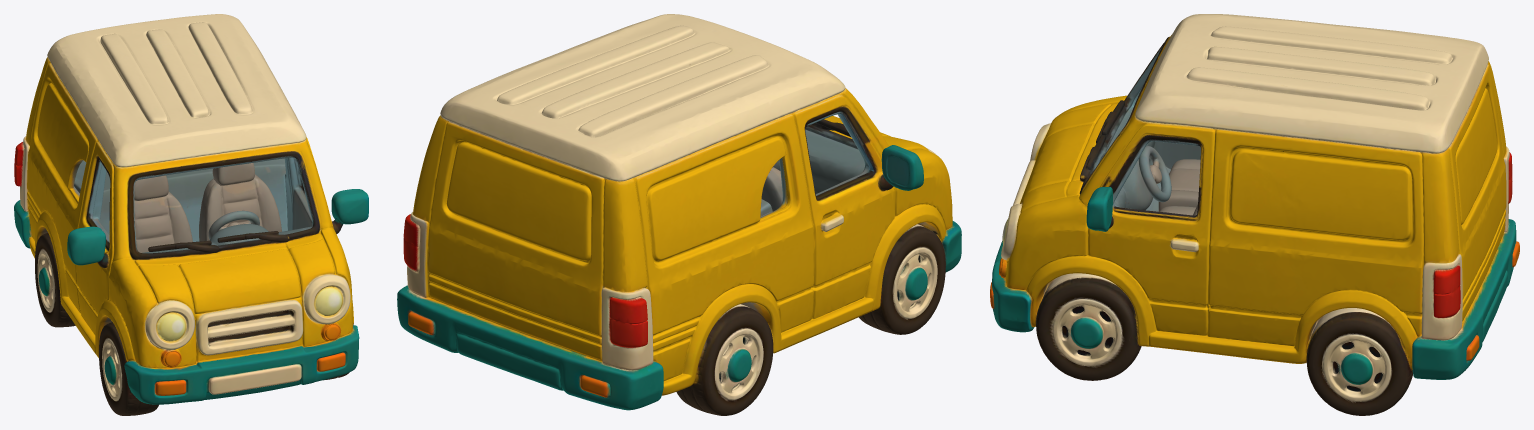
The model's file is ToyVan.fbx.
3 views of the same model, side by side, from view 1: azimuth 30°, elevation 25°; view 2: azimuth 150°, elevation 25°; view 3: azimuth 270°, elevation 25° (orthographic). The views are drawn at different scales.
Parts seen in each view (by area): view 1: tripo_node_0720262c-8608-4766-b22f-990b78674e5e; view 2: tripo_node_0720262c-8608-4766-b22f-990b78674e5e; view 3: tripo_node_0720262c-8608-4766-b22f-990b78674e5e.
Boxes of the visible parts, x1=… form: tripo_node_0720262c-8608-4766-b22f-990b78674e5e: x1=14, y1=14, x2=368, y2=415; tripo_node_0720262c-8608-4766-b22f-990b78674e5e: x1=397, y1=14, x2=961, y2=415; tripo_node_0720262c-8608-4766-b22f-990b78674e5e: x1=990, y1=14, x2=1519, y2=415.
Size of the model in its own units: 79.34 by 58.37 by 98.05.
Materials: 1 (1 with a texture image).
